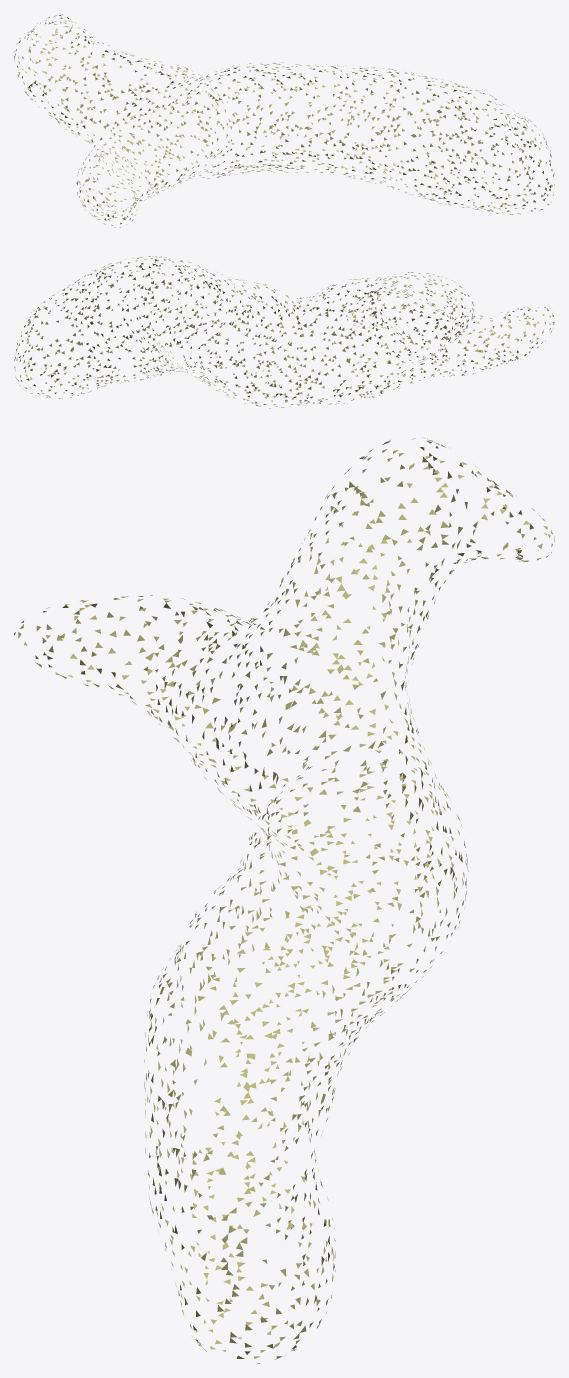
File: morph_009.glb
3 views of the same model, one above another, from view 1: azimuth 30°, elevation 25°; view 2: azimuth 150°, elevation 25°; view 3: azimuth 270°, elevation 25° (orthographic). The views are drawn at different scales.
Size of the model in its own units: 102 by 50.53 by 49.81.
